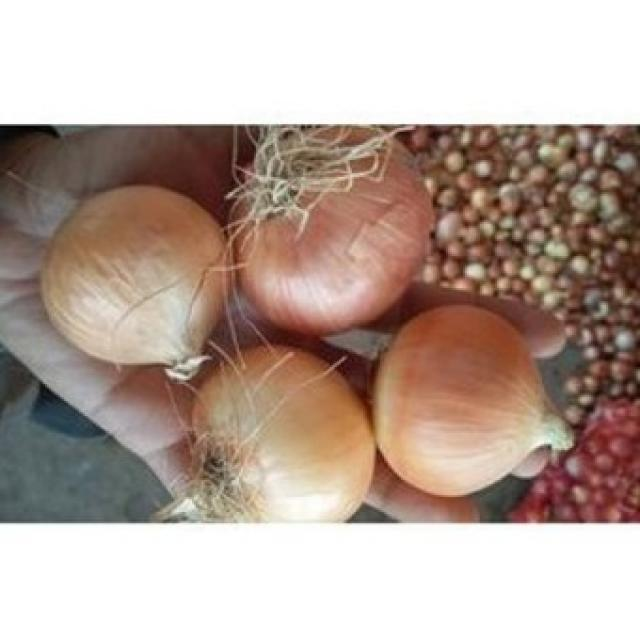onion: (226, 125, 434, 339), (370, 303, 574, 501), (39, 185, 233, 369), (184, 343, 375, 522)
